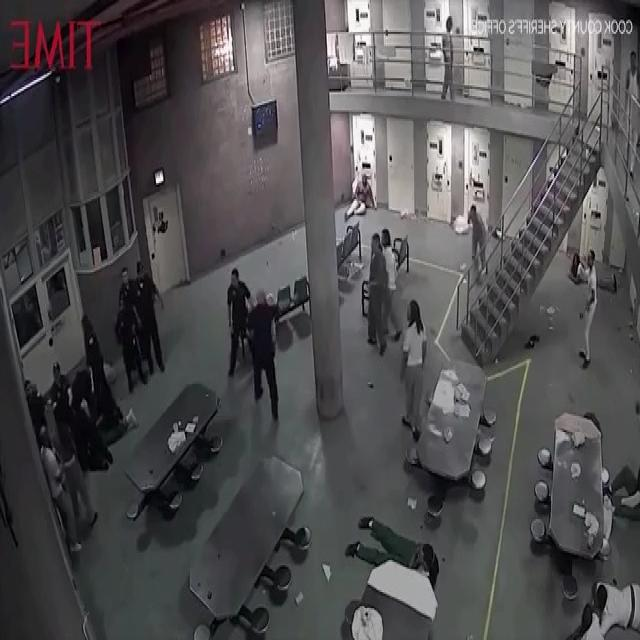fight: (60, 305, 120, 488)
